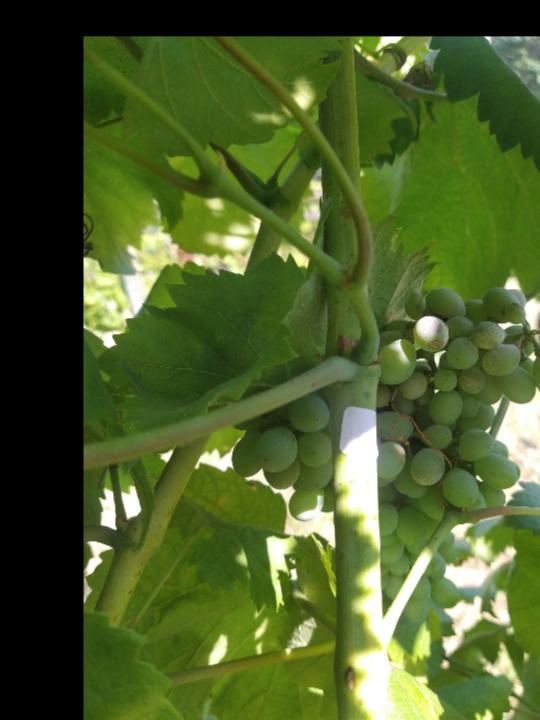grape: (228, 286, 540, 624)
